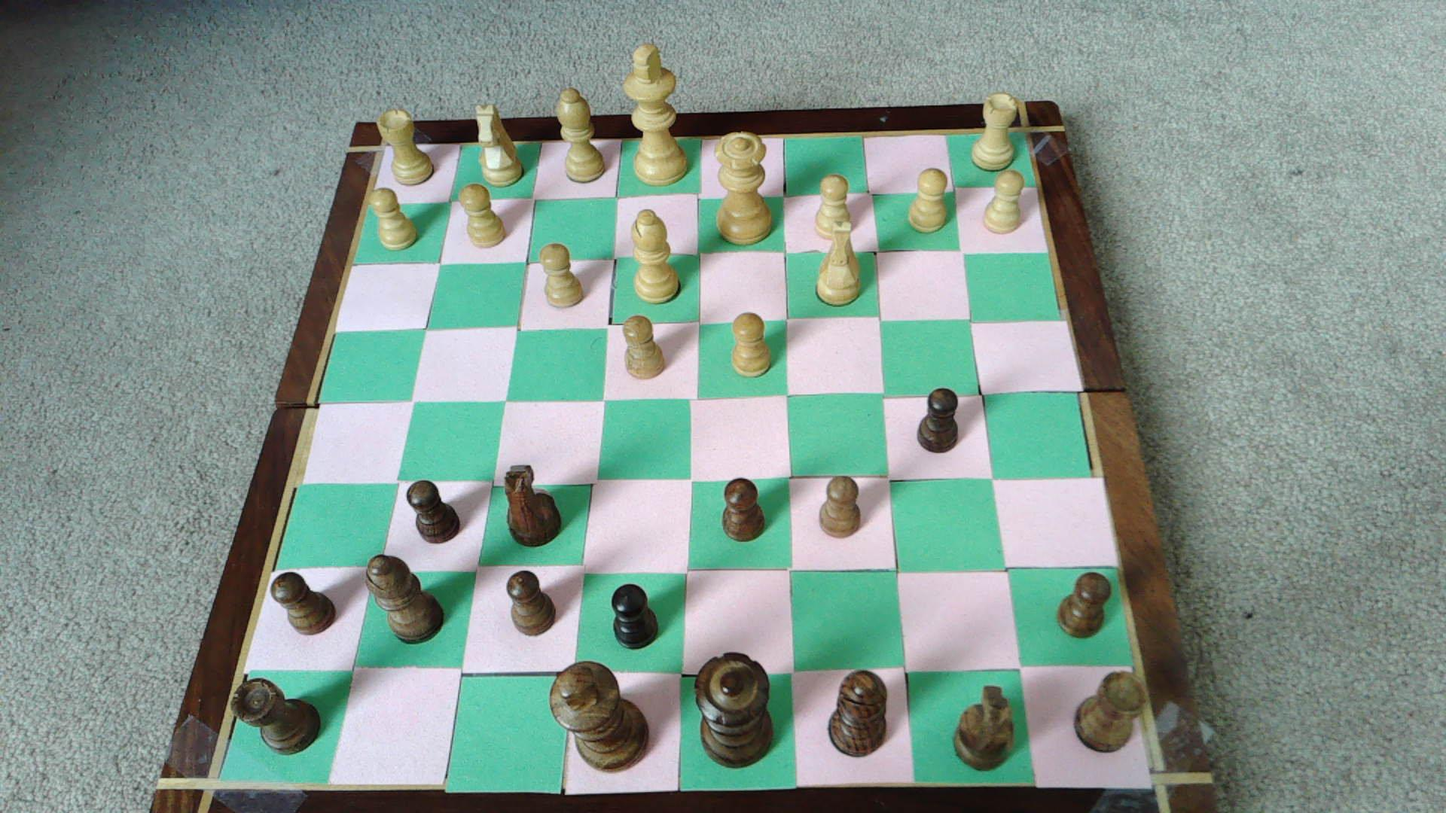dark_piece: (550, 661, 647, 770), (695, 653, 772, 766), (366, 555, 444, 642), (232, 679, 319, 752), (1075, 671, 1147, 751), (953, 685, 1013, 770), (828, 671, 887, 756), (504, 464, 561, 547), (271, 572, 336, 633), (1057, 572, 1110, 637), (506, 571, 556, 635), (407, 481, 459, 542), (612, 583, 659, 648), (917, 387, 958, 452), (723, 478, 765, 540), (820, 476, 860, 537)
white_piece: (622, 44, 689, 187), (715, 133, 773, 244), (555, 88, 605, 182), (632, 210, 680, 303), (378, 109, 435, 186), (474, 102, 524, 186), (971, 93, 1017, 171), (816, 227, 860, 305), (460, 184, 507, 248), (540, 243, 585, 308), (371, 188, 418, 250), (623, 315, 666, 378), (908, 168, 949, 232), (731, 312, 772, 376), (814, 175, 854, 239), (984, 170, 1024, 233)
